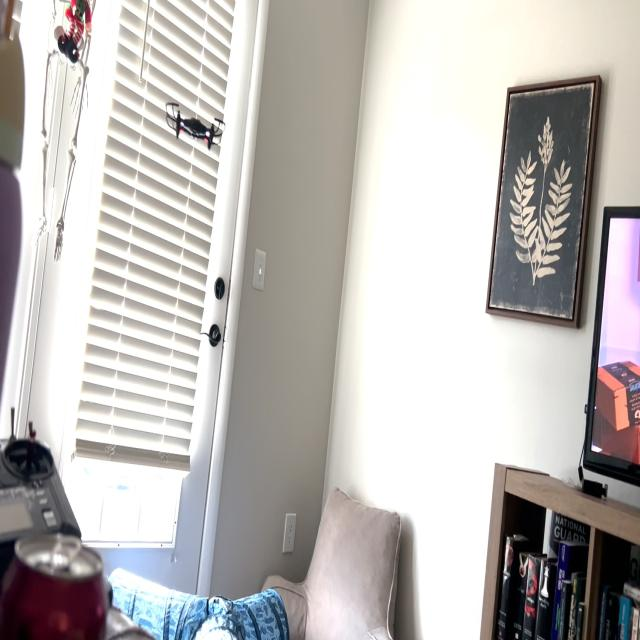drone: (158, 82, 232, 159)
